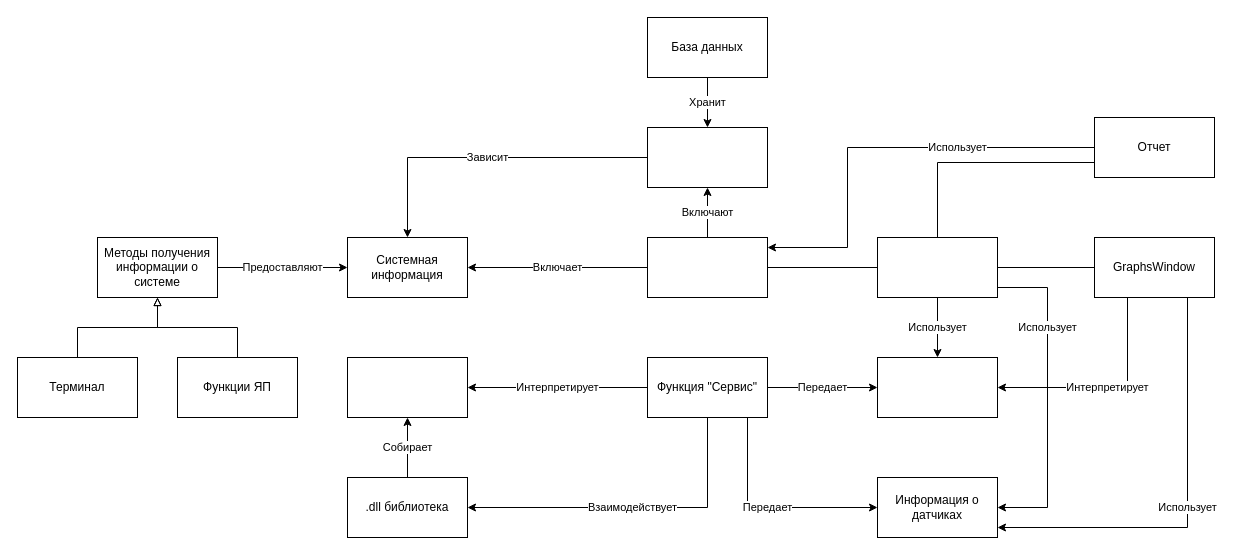
The diagram is 1234 pixels wide and 555 high, and some of its shapes have lost their labels. Here are the shapes that lost their labels. From the top down, the box of each, then its label:
(646, 126, 768, 188): Ссылки на сайт производителя, дополнительная информация
(646, 236, 768, 298): Неизменяемые данные (текстовые)
(876, 236, 998, 298): MainWindow
(346, 356, 468, 418): Информация с датчиков
(876, 356, 998, 418): Числовые данные
